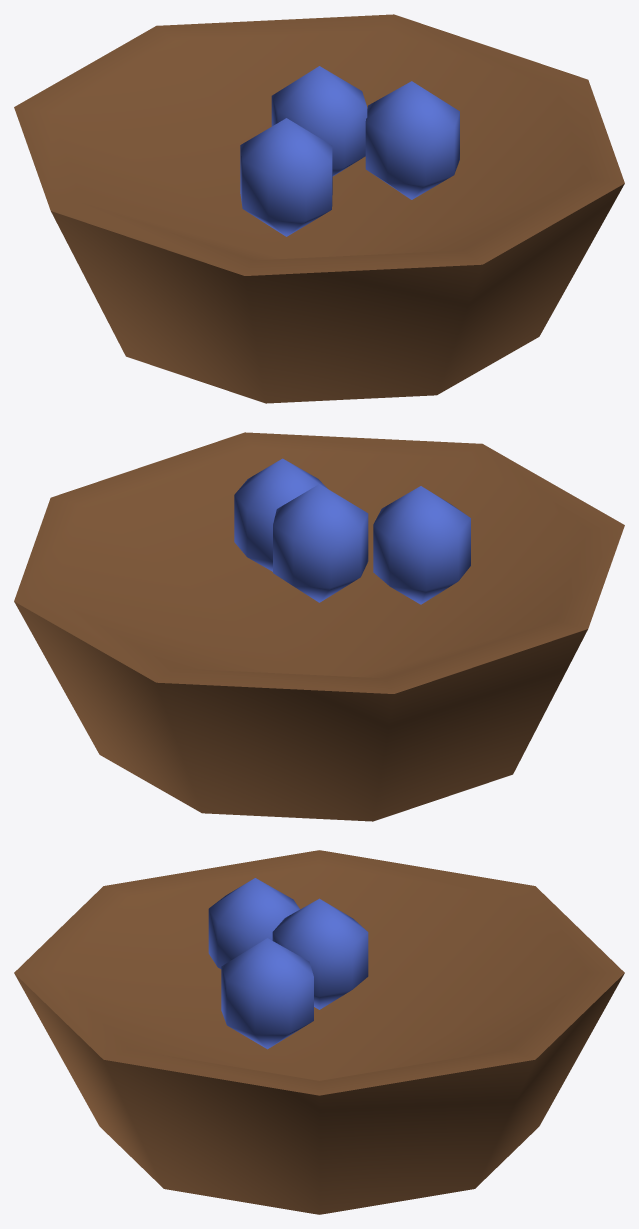
Rendered from food_berries_a.obj.
3 views of the same model, one above another, from view 1: azimuth 30°, elevation 25°; view 2: azimuth 150°, elevation 25°; view 3: azimuth 270°, elevation 25° (orthographic). The views are drawn at different scales.
Visible parts, largest first — view 1: shallow_wooden_basket, berry_3, berry_2, berry_1; view 2: shallow_wooden_basket, berry_2, berry_1, berry_3; view 3: shallow_wooden_basket, berry_3, berry_1, berry_2.
Part boxes in pixels (x1,y1,x2,y2): shallow_wooden_basket: (14,14,624,403); berry_3: (365,81,459,199); berry_2: (240,118,332,236); berry_1: (271,66,367,176); shallow_wooden_basket: (14,432,624,821); berry_2: (373,486,470,604); berry_1: (273,484,368,602); berry_3: (234,458,327,571); shallow_wooden_basket: (14,850,624,1214); berry_3: (221,938,313,1049); berry_1: (272,898,368,1009); berry_2: (208,878,299,968).
Size of the model in its own units: 0.2869 by 0.1241 by 0.3016.
